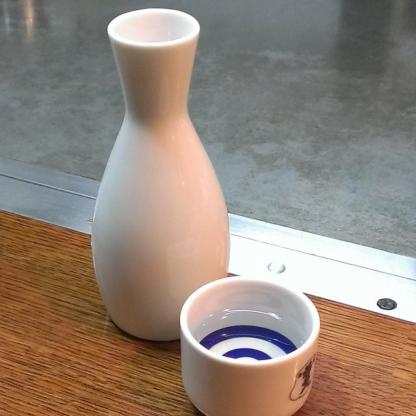vase: (88, 6, 232, 342)
